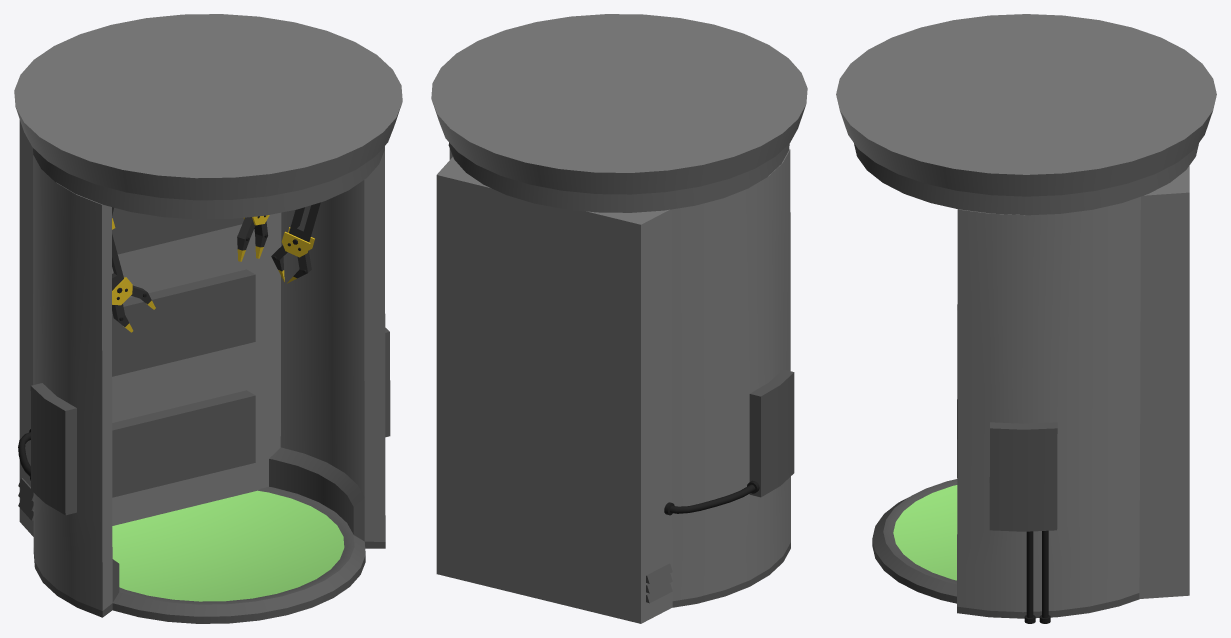
Rendered from spawningPod.fbx.
3 views of the same model, side by side, from view 1: azimuth 30°, elevation 25°; view 2: azimuth 150°, elevation 25°; view 3: azimuth 270°, elevation 25° (orthographic). The views are drawn at different scales.
Visible parts, largest first — view 1: Spawning Pod; view 2: Spawning Pod; view 3: Spawning Pod.
Boxes of the visible parts, x1,y1,x2,y2 form: Spawning Pod: [14, 14, 402, 623]; Spawning Pod: [431, 14, 807, 623]; Spawning Pod: [836, 14, 1216, 623].
Bounding box in the file's own units: 209 × 209 × 273.
